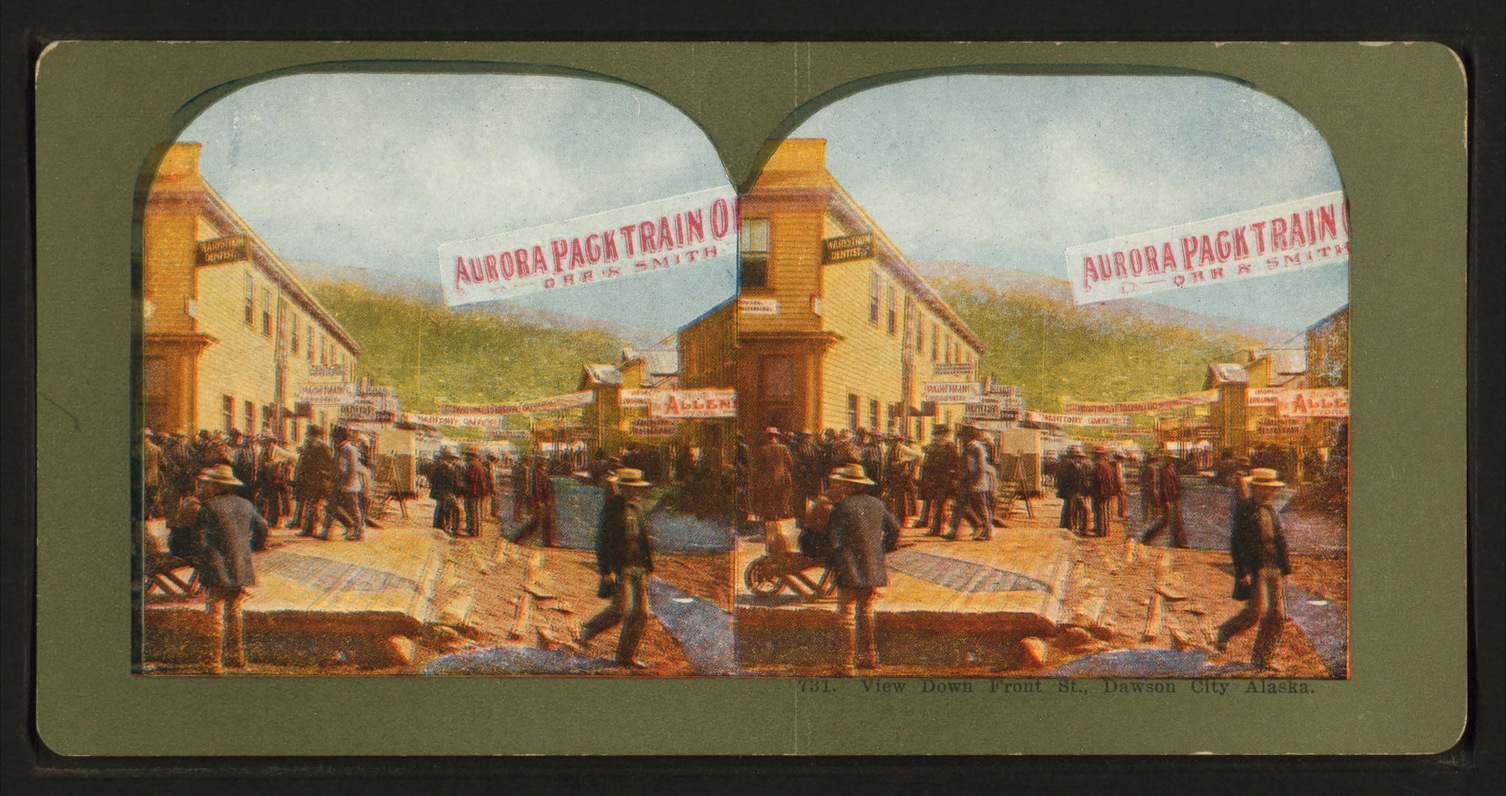half_image: (739, 76, 1351, 678), (143, 74, 738, 675)
